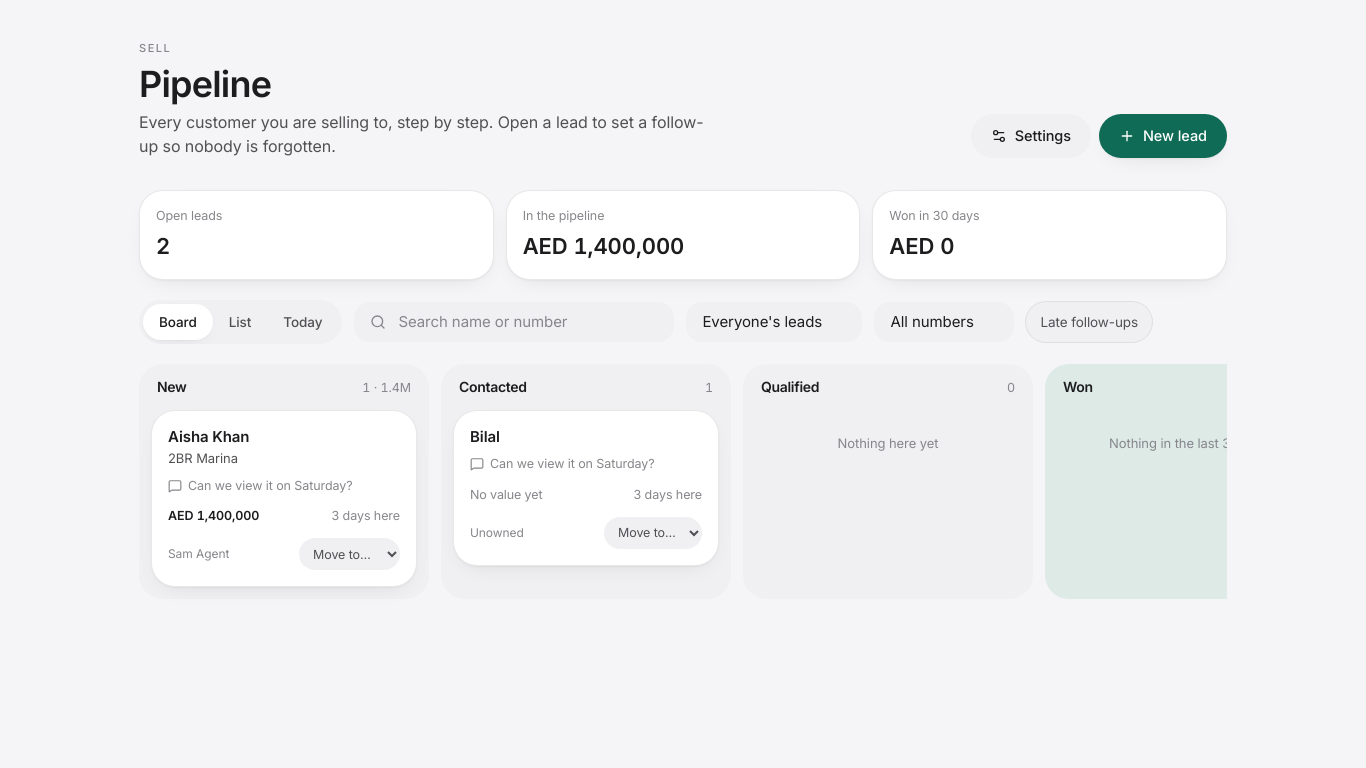
it: the board › asks why before marking a lead lost, and sends the reason
Select "Lost" in the dropdown named "Move Aisha Khan to another step" at (350,554), box [299,538,400,570]
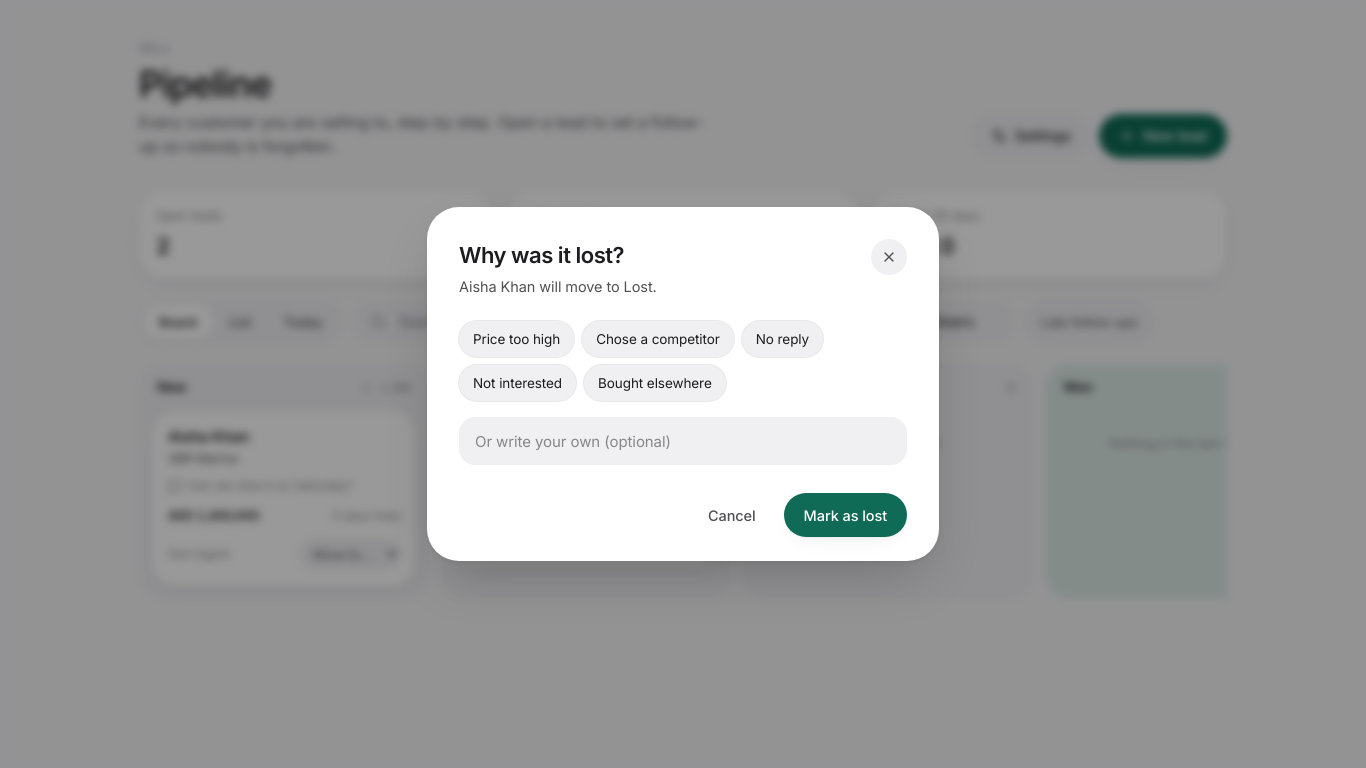
Click the button "Price too high" at (517,339), box [459,321,574,357]
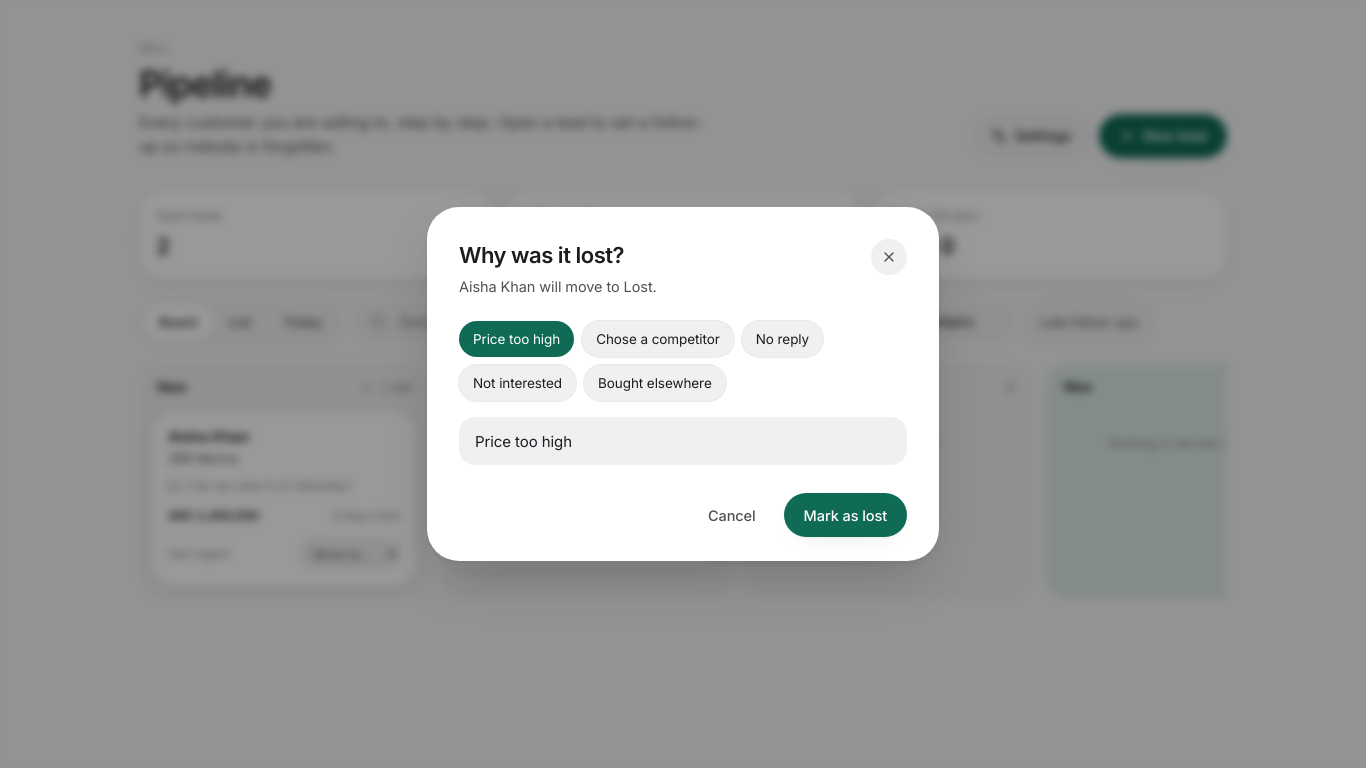
Now the field named "Reason" holds "Price too high", box [459,417,907,465]
Click the button "Mark as lost" at (845,515), box [784,493,907,537]
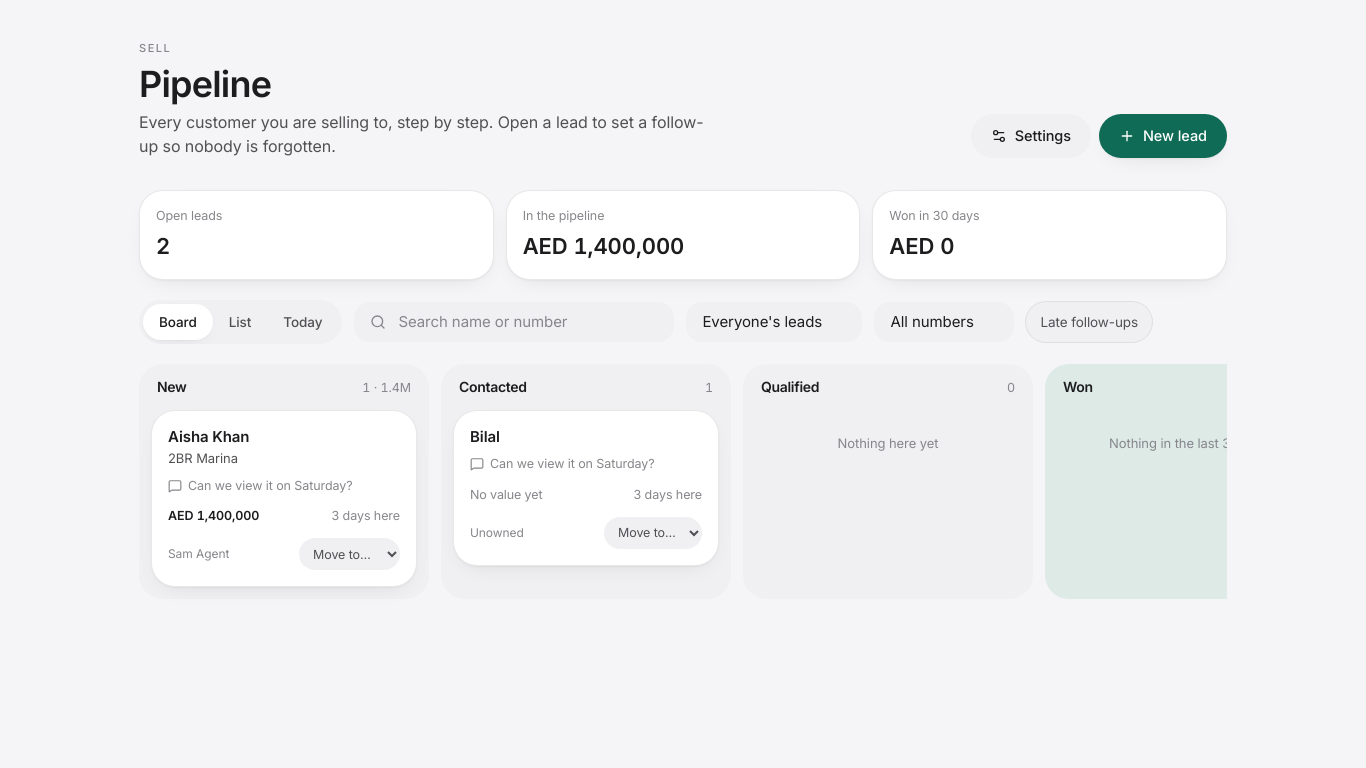
Now the heading "Why was it lost?" is gone
